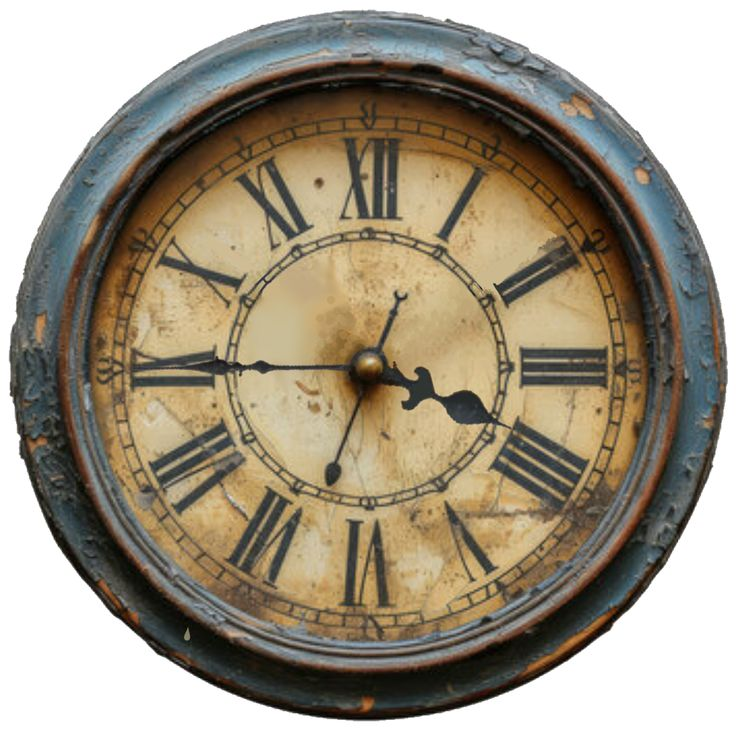clock: (4, 2, 736, 734)
